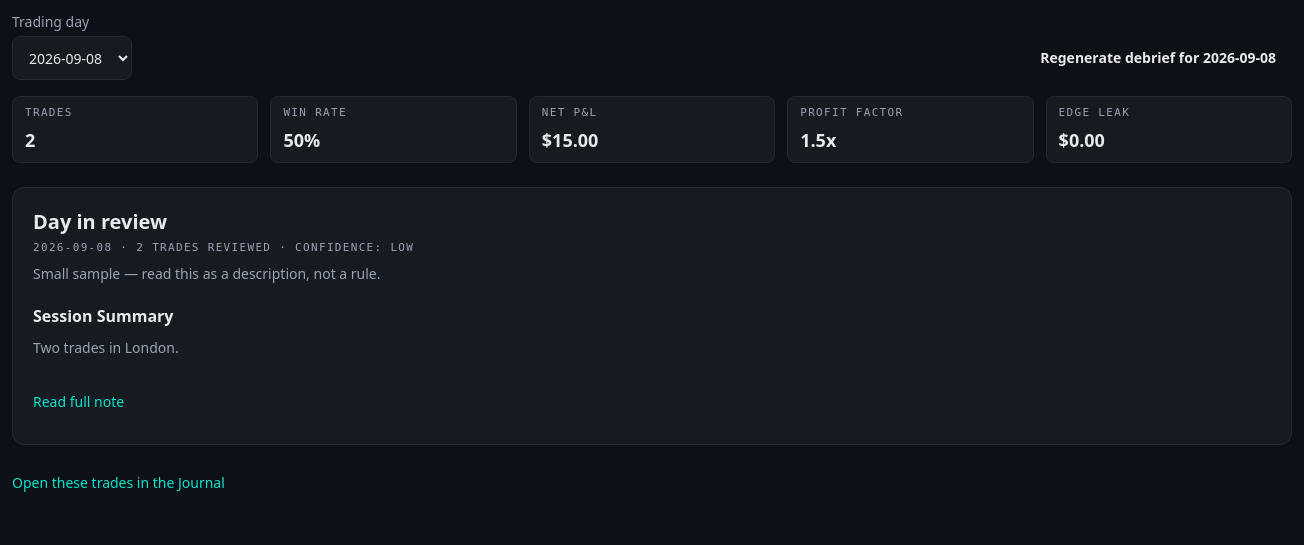
Scenario: DailyLens › keeps the saved debrief and shows the refusal copy for an empty day
The image size is (1304, 545).
Click the button "Regenerate debrief for 2026-09-08": [1158, 58] box [1024,36,1292,80]
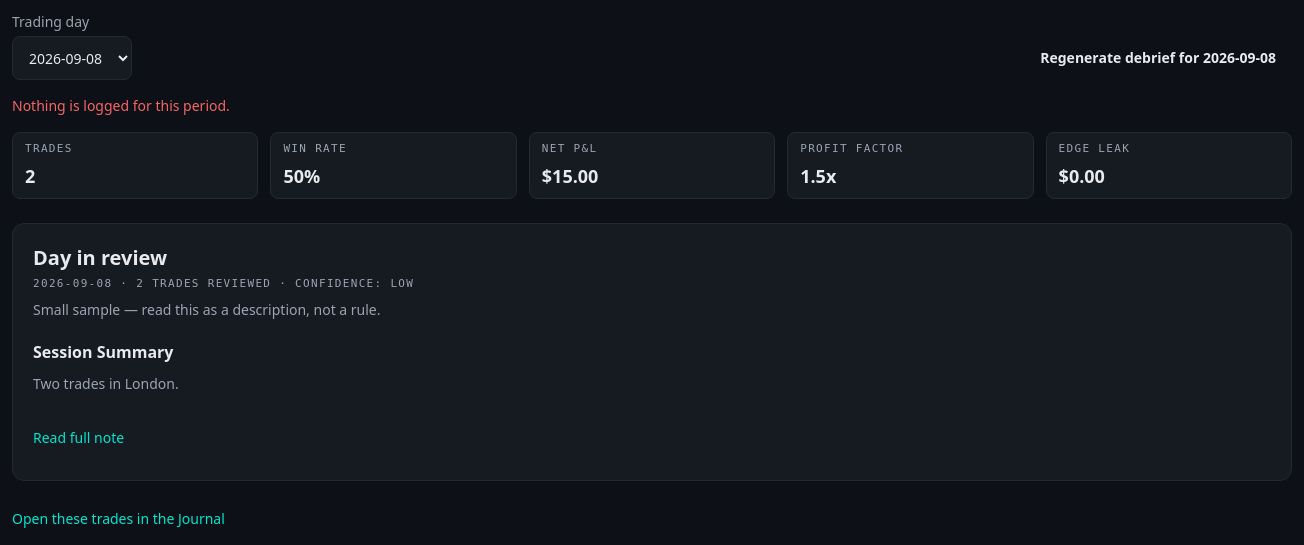
Check: the text "Two trades in London." is shown, box [33,374,179,393]
Check: the message reads "Nothing is logged for this period.", box [12,96,230,115]
